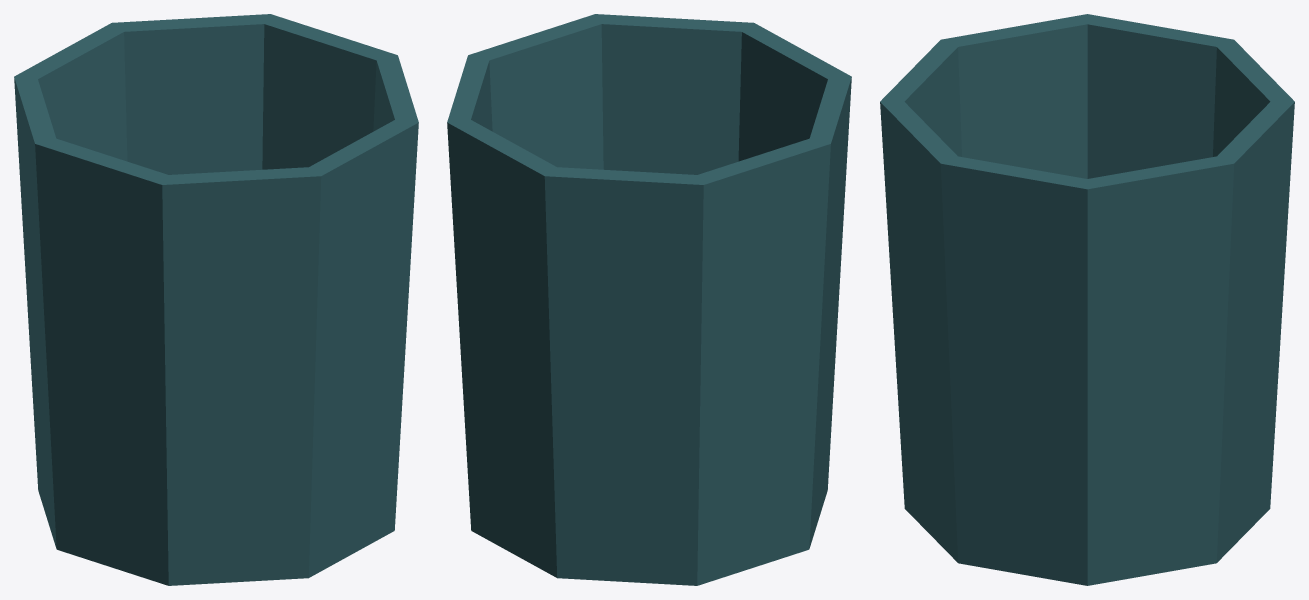
Rendered from trashcan.fbx.
The picture shows the model from 3 angles, left to right: view 1: azimuth 30°, elevation 25°; view 2: azimuth 150°, elevation 25°; view 3: azimuth 270°, elevation 25°; orthographic projection.
Visible parts, largest first — view 1: pCylinder1; view 2: pCylinder1; view 3: pCylinder1.
Boxes of the visible parts, x1=… form: pCylinder1: x1=14, y1=14, x2=418, y2=585; pCylinder1: x1=447, y1=14, x2=851, y2=585; pCylinder1: x1=880, y1=14, x2=1294, y2=585.
Bounding box in the file's own units: 5.32 × 5.76 × 5.32.
